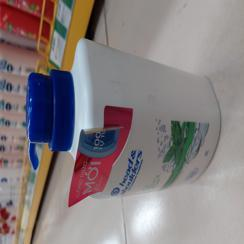h_s: (19, 37, 223, 207)
